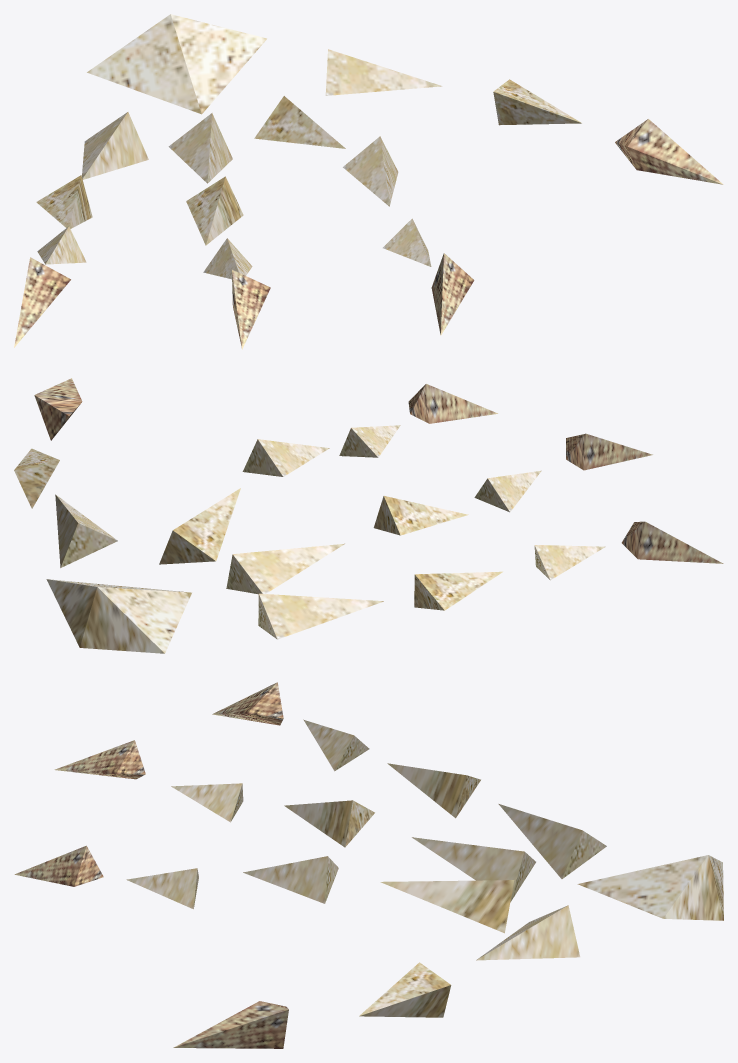
Rendered from poi_tato_skel_krayt_foot_l3.fbx.
3 renders of one model, top to bottom at view 1: azimuth 30°, elevation 25°; view 2: azimuth 150°, elevation 25°; view 3: azimuth 270°, elevation 25°, orthographic. The views are drawn at different scales.
Visible parts, largest first — view 1: mesh_node; view 2: mesh_node; view 3: mesh_node.
Part boxes in pixels (bbox=[...]): mesh_node: bbox=[14, 14, 723, 349]; mesh_node: bbox=[14, 378, 723, 653]; mesh_node: bbox=[14, 682, 723, 1048].
Size of the model in its own units: 2.96 by 0.3269 by 2.6.
2 materials, 2 textured.
